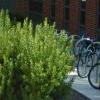Bicycle: (56, 24, 100, 88)
